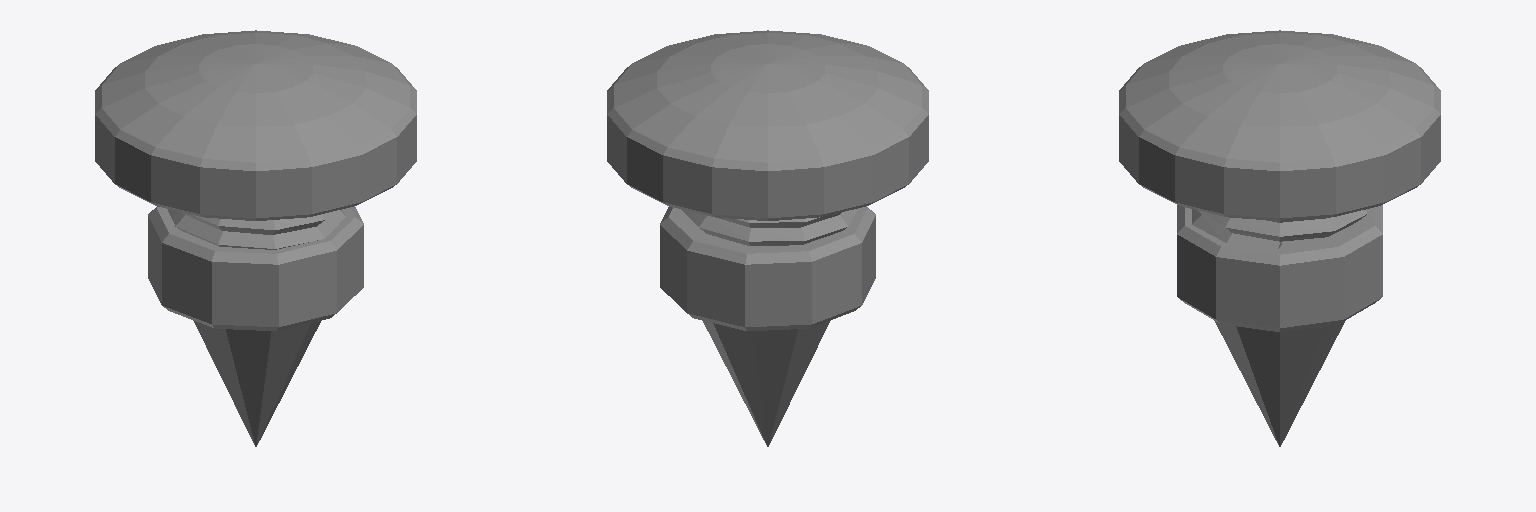
File: cpz_obj_SwitchPipe.obj
3 renders of one model, left to right at view 1: azimuth 30°, elevation 25°; view 2: azimuth 150°, elevation 25°; view 3: azimuth 270°, elevation 25°, orthographic.
Parts seen in each view (by area): view 1: cpz_obj_SwitchPipe_light_off, cpz_obj_SwitchPipe_metal, cpz_obj_SwitchPipe_cap; view 2: cpz_obj_SwitchPipe_light_off, cpz_obj_SwitchPipe_metal, cpz_obj_SwitchPipe_cap; view 3: cpz_obj_SwitchPipe_light_off, cpz_obj_SwitchPipe_metal, cpz_obj_SwitchPipe_cap.
Boxes of the visible parts, box(x1,y1,x2,y2) form: cpz_obj_SwitchPipe_light_off: box(102, 30, 409, 162); cpz_obj_SwitchPipe_metal: box(148, 206, 363, 446); cpz_obj_SwitchPipe_cap: box(95, 65, 416, 220); cpz_obj_SwitchPipe_light_off: box(614, 30, 921, 162); cpz_obj_SwitchPipe_metal: box(660, 206, 875, 446); cpz_obj_SwitchPipe_cap: box(607, 65, 928, 220); cpz_obj_SwitchPipe_light_off: box(1126, 30, 1433, 162); cpz_obj_SwitchPipe_metal: box(1177, 205, 1382, 446); cpz_obj_SwitchPipe_cap: box(1119, 65, 1440, 220).
Size of the model in its own units: 36 by 46.79 by 35.45.